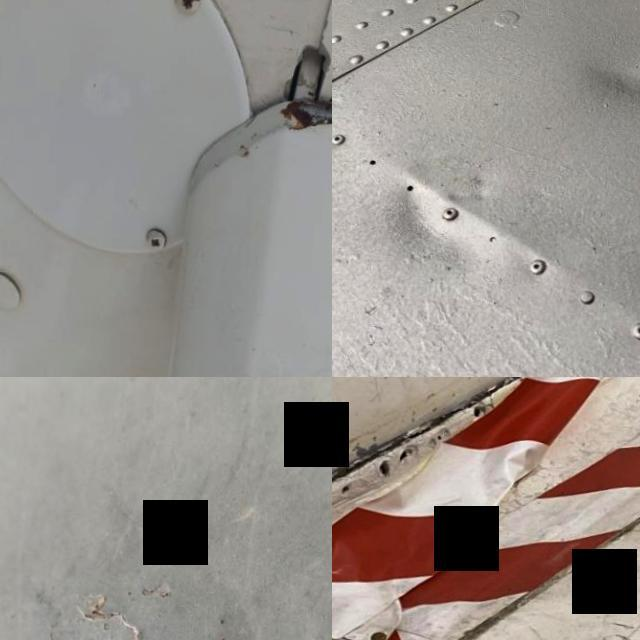Crack: (237, 15, 332, 237), (15, 569, 307, 640), (167, 0, 217, 23)
Dent: (364, 141, 526, 296), (558, 0, 640, 148)
